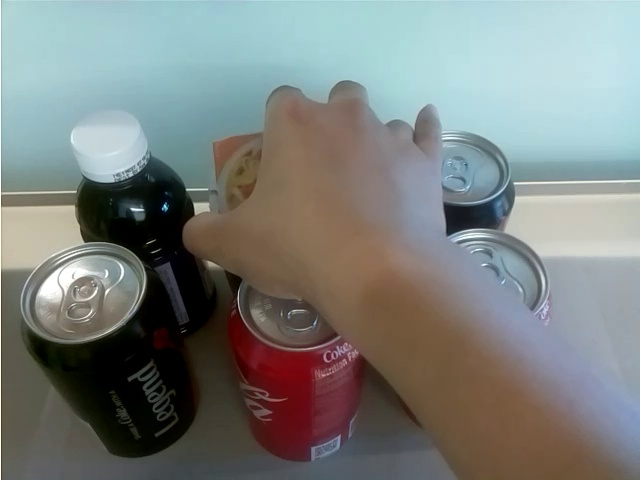cocacola: (16, 239, 201, 459), (223, 268, 361, 468), (439, 226, 556, 332), (429, 131, 516, 227)
hand: (184, 80, 447, 300)
juice: (68, 112, 218, 341)
noodles: (206, 125, 266, 212)
